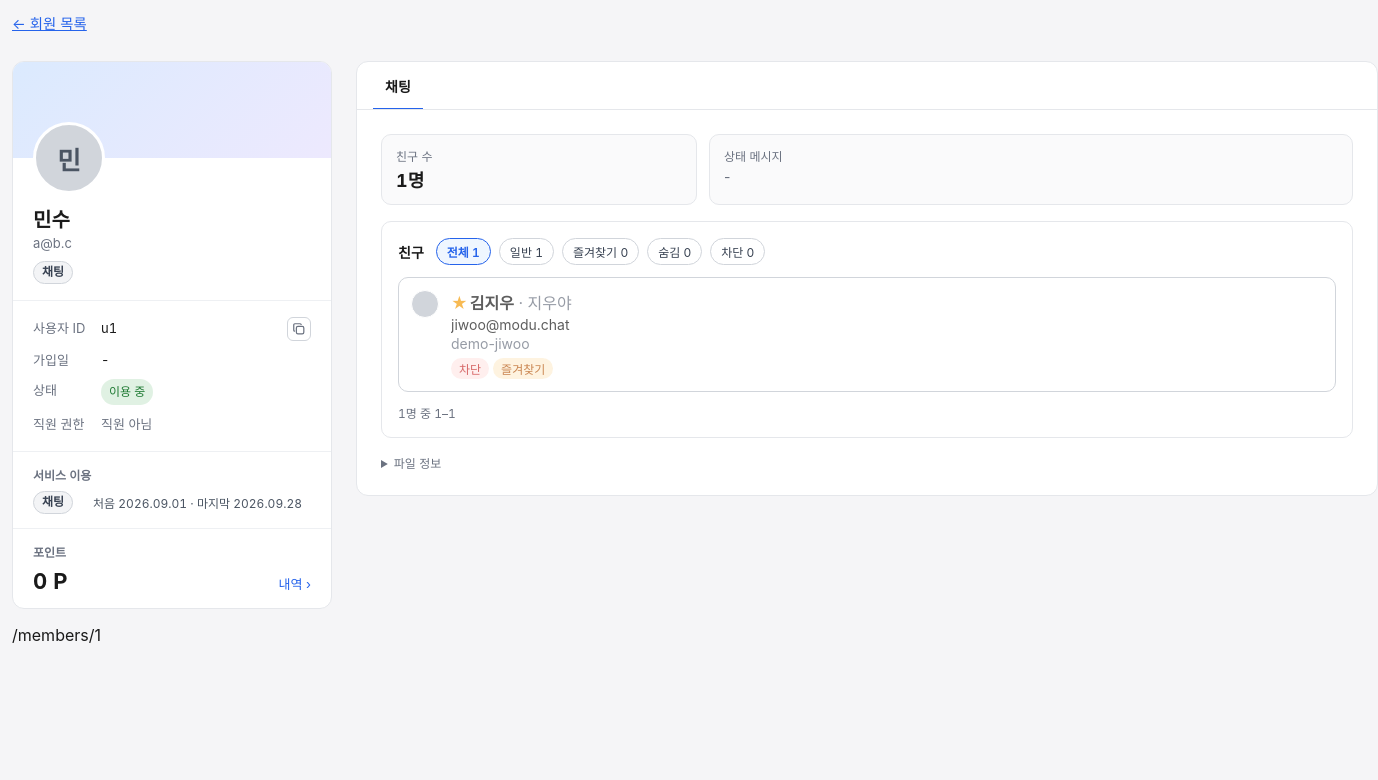
Test: MemberDetailPage › on a narrow screen lists friends as cards with their badges and opens a friend on tap
The image size is (1378, 780).
Expected: the picture named "즐겨찾기" reads "★", left=451, top=293, right=468, bottom=313
Click the button "★김지우 · 지우야 jiwoo@modu.chat demo-jiwoo 차단 즐겨찾기" at (492, 303), box left=398, top=277, right=1336, bottom=392
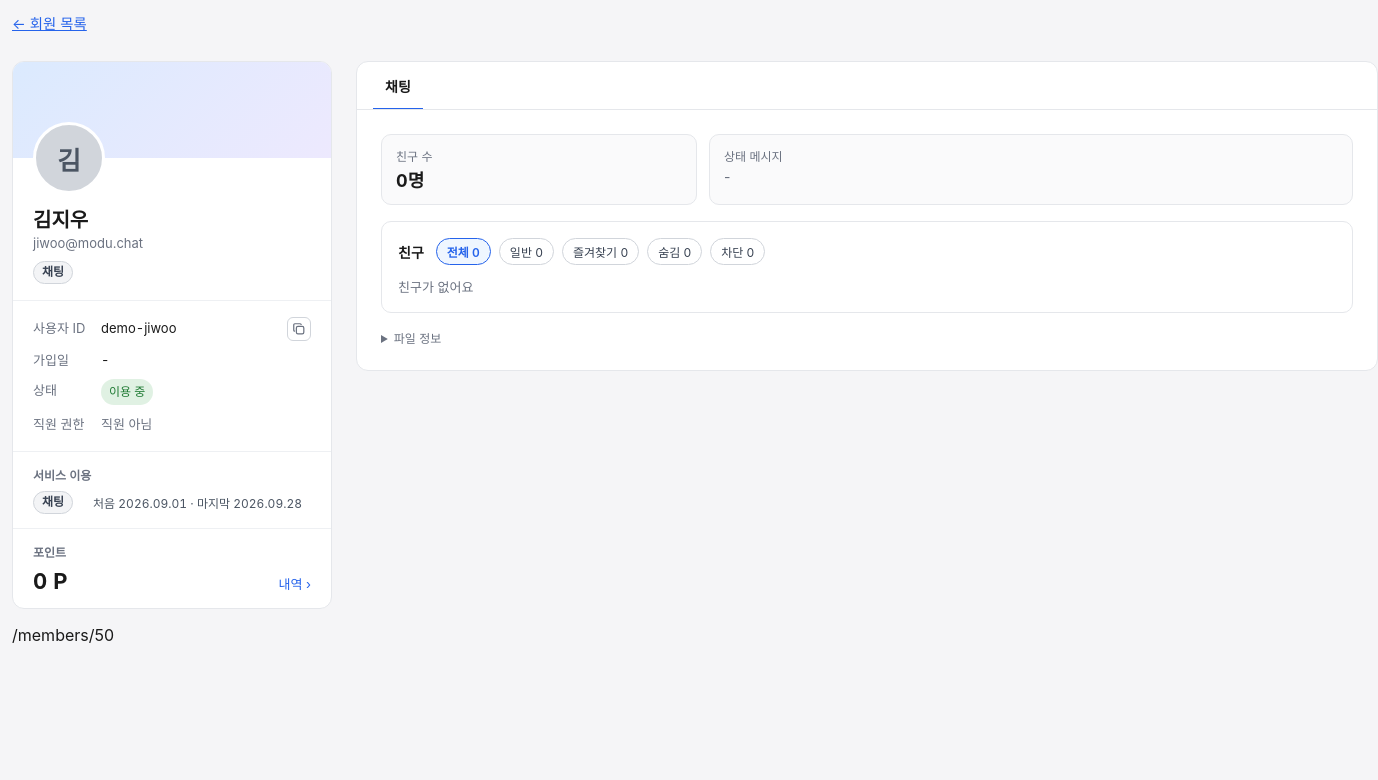
Now the text with test id "location" reads "/members/50", box left=12, top=625, right=114, bottom=645
Now the text "친구가 없어요" is shown, box left=398, top=279, right=473, bottom=295
